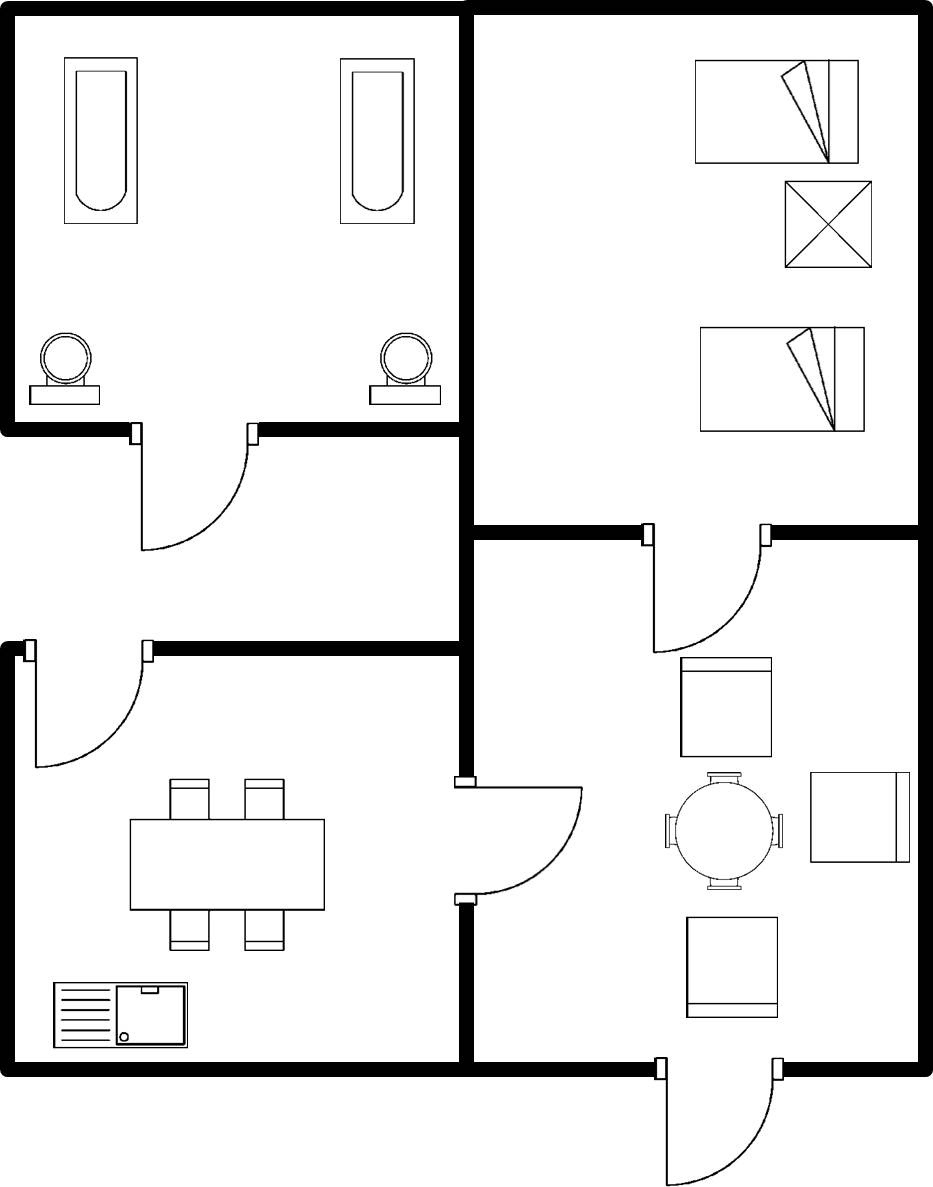bed: (687, 49, 866, 171), (692, 319, 868, 442)
coffee_table: (773, 177, 881, 278)
dining_table: (115, 771, 336, 965)
large_sink: (359, 327, 446, 412), (24, 327, 109, 412)
round_table: (654, 769, 791, 901)
sink: (47, 977, 199, 1056)
small_sofa: (800, 764, 914, 873), (679, 908, 784, 1024), (672, 652, 780, 764)
tub: (332, 51, 422, 231), (56, 52, 143, 234)
